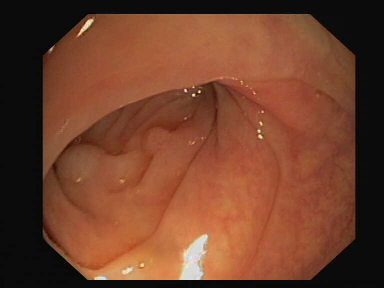polyp: (51, 129, 114, 191), (139, 119, 183, 166)
